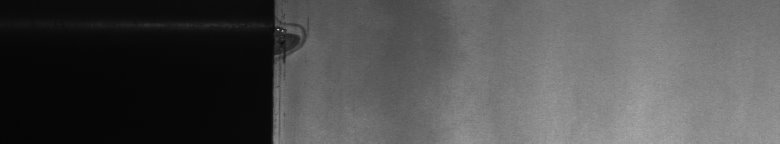hb: (284, 14, 315, 68)
